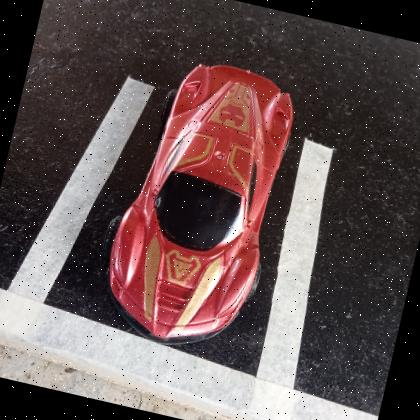Car: (108, 65, 293, 342)
